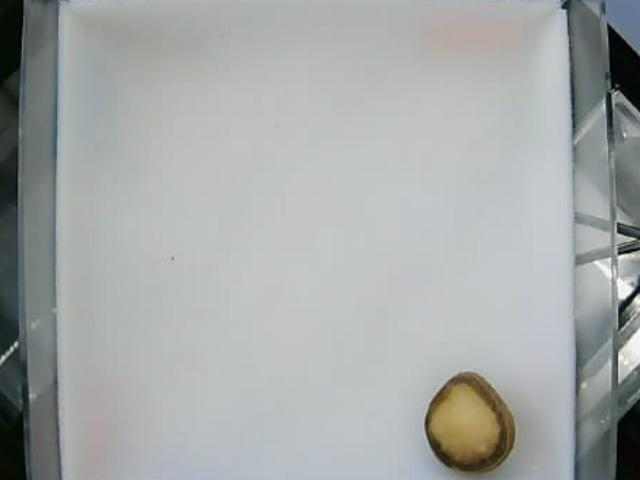Potato: (423, 370, 515, 473)
